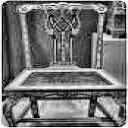chair_success: (3, 3, 126, 127)
